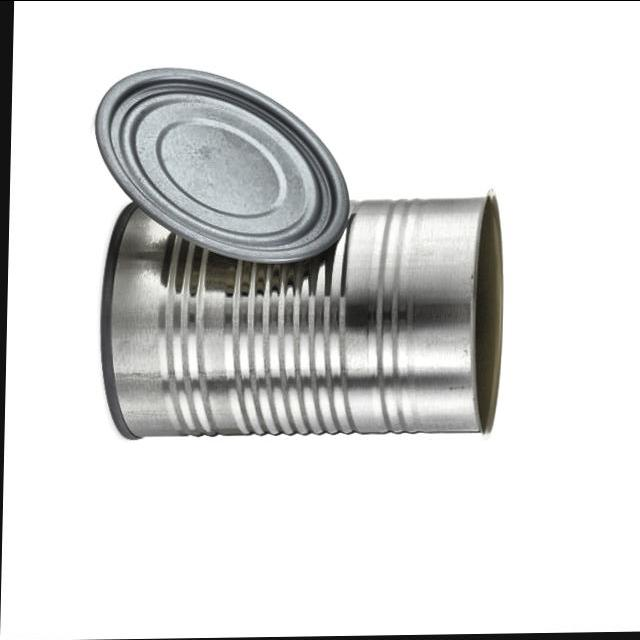litter: (95, 187, 525, 452), (84, 52, 362, 269)
